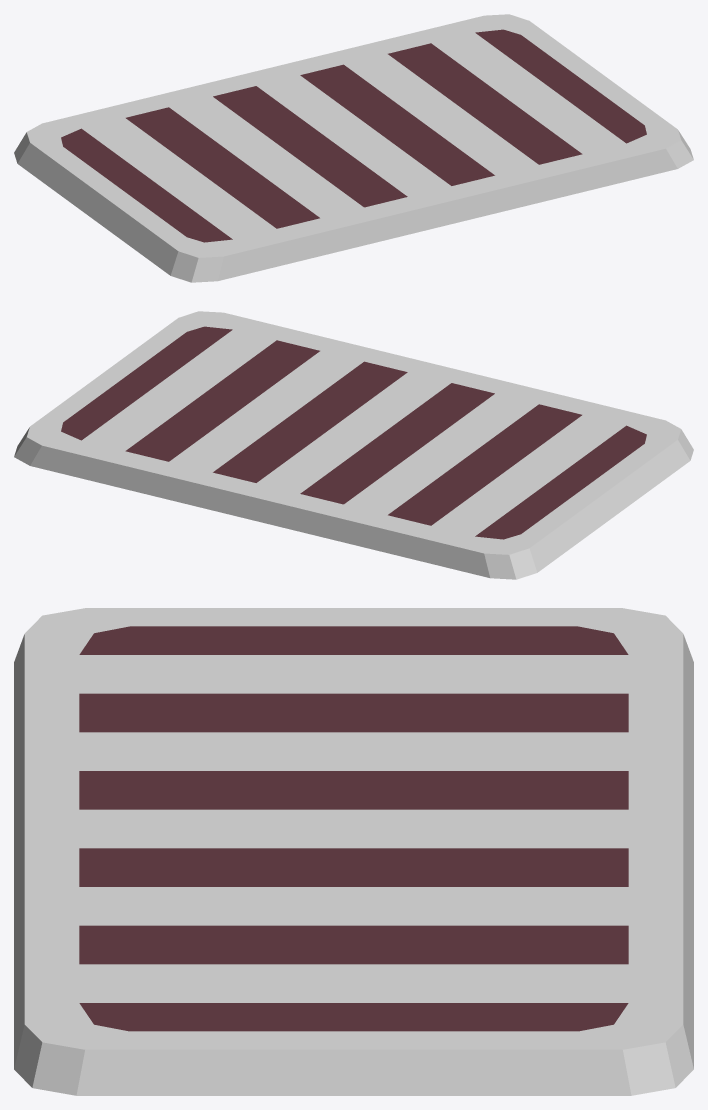
File: furniture-mat-bathroom.glb
3 renders of one model, top to bottom at view 1: azimuth 30°, elevation 25°; view 2: azimuth 150°, elevation 25°; view 3: azimuth 270°, elevation 25°, orthographic. The views are drawn at different scales.
Parts seen in each view (by area): view 1: mat-bathroom; view 2: mat-bathroom; view 3: mat-bathroom.
Boxes of the visible parts, x1,y1,x2,y2 form: mat-bathroom: (14, 14, 693, 282); mat-bathroom: (14, 311, 693, 579); mat-bathroom: (14, 608, 693, 1095).
Bounding box in the file's own units: 0.8 × 0.03 × 0.5.
